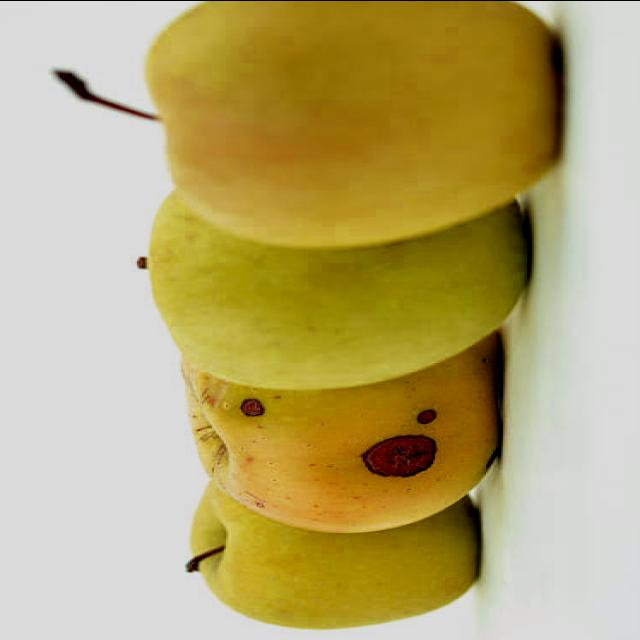Green Juicy Apple: (149, 0, 563, 243), (150, 178, 528, 384), (186, 488, 479, 627)
Rotten Apple: (187, 326, 500, 530)
